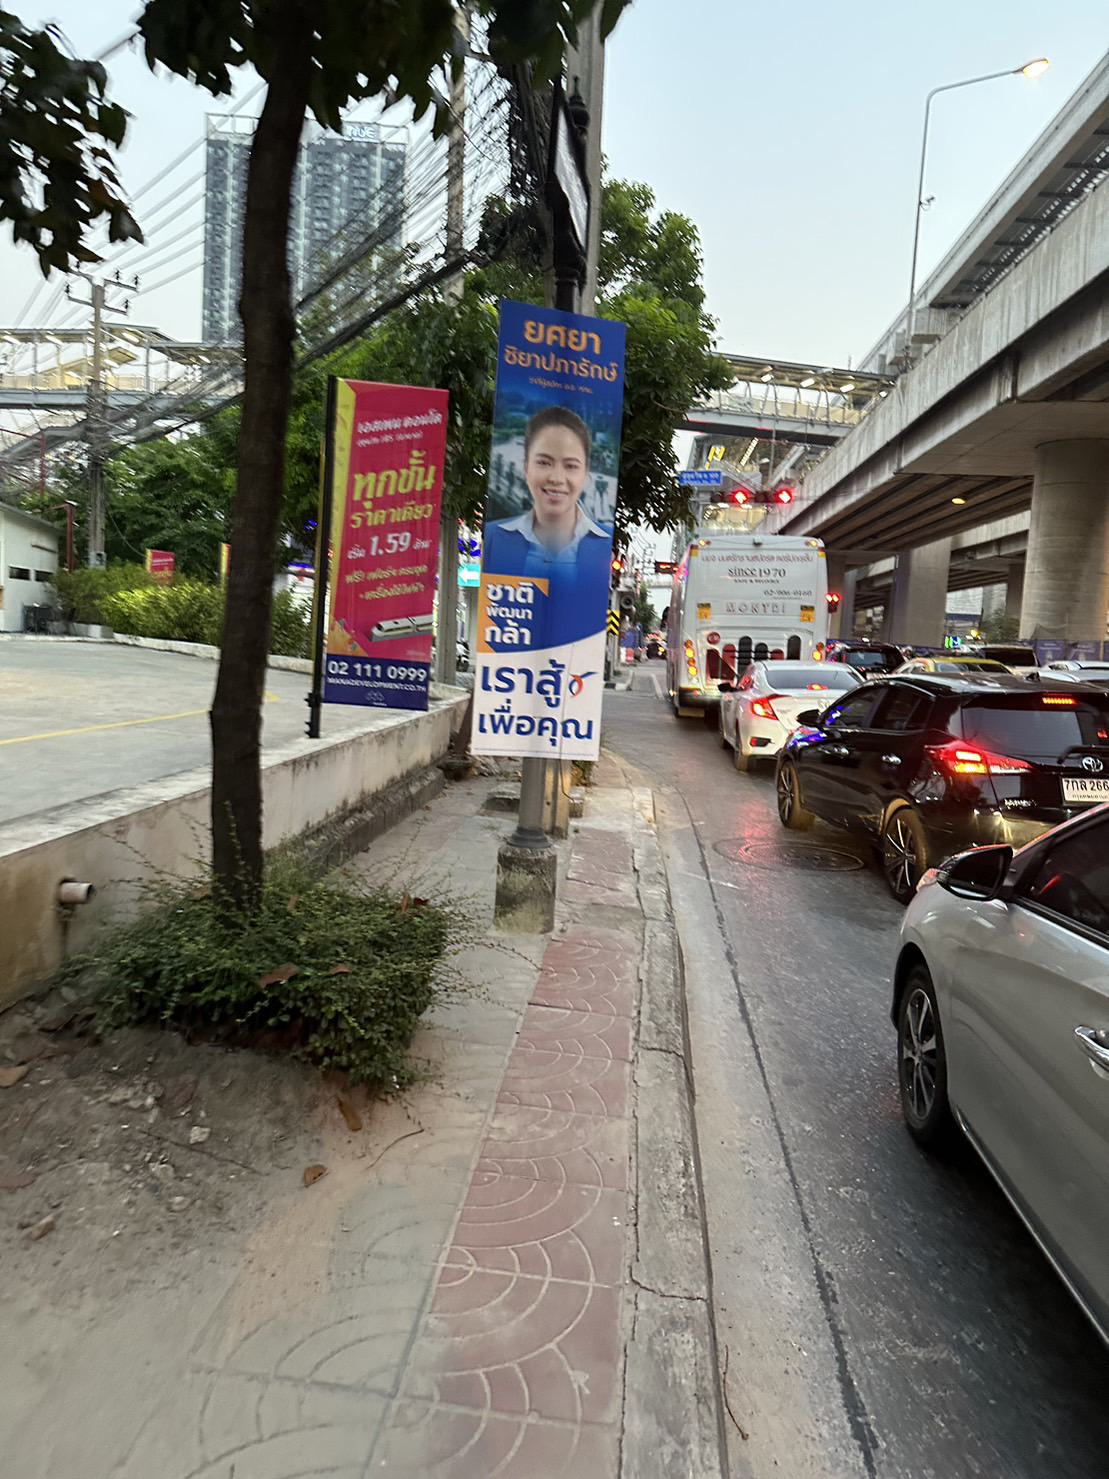Banner: (465, 293, 621, 760)
